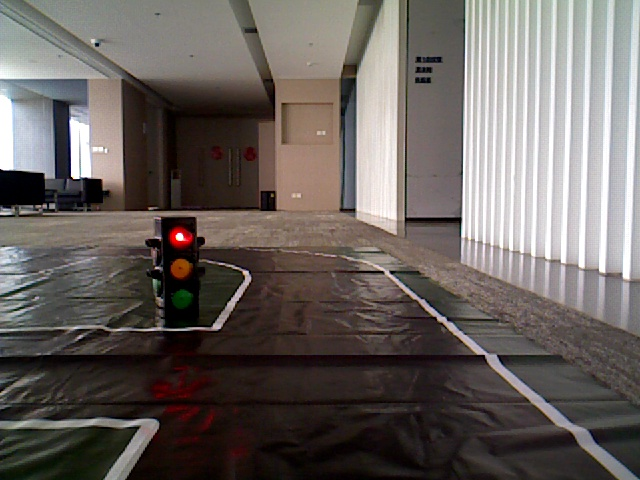red: (159, 220, 197, 319)
